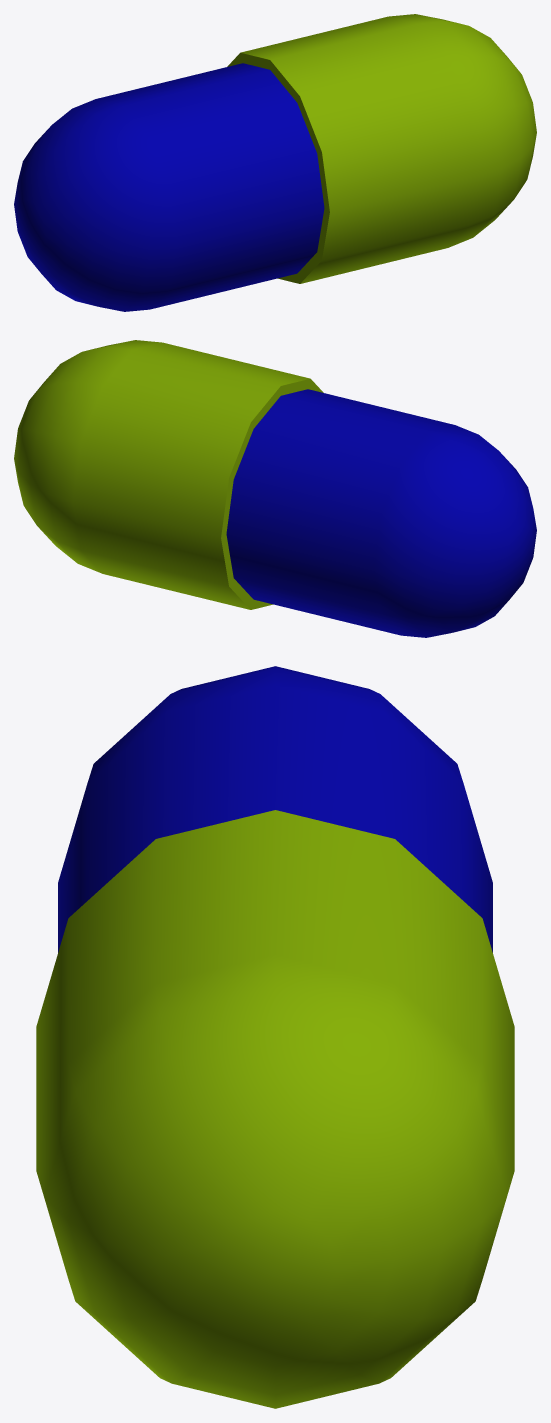
File: pill_capsule.fbx
The picture shows the model from 3 angles, top to bottom: view 1: azimuth 30°, elevation 25°; view 2: azimuth 150°, elevation 25°; view 3: azimuth 270°, elevation 25°; orthographic projection. The views are drawn at different scales.
Parts seen in each view (by area): view 1: pill_capsule; view 2: pill_capsule; view 3: pill_capsule.
Boxes of the visible parts, x1,y1,x2,y2 form: pill_capsule: (14, 14, 536, 311); pill_capsule: (14, 340, 536, 637); pill_capsule: (36, 666, 514, 1408).
Bounding box in the file's own units: 110 × 46.46 × 46.46.
